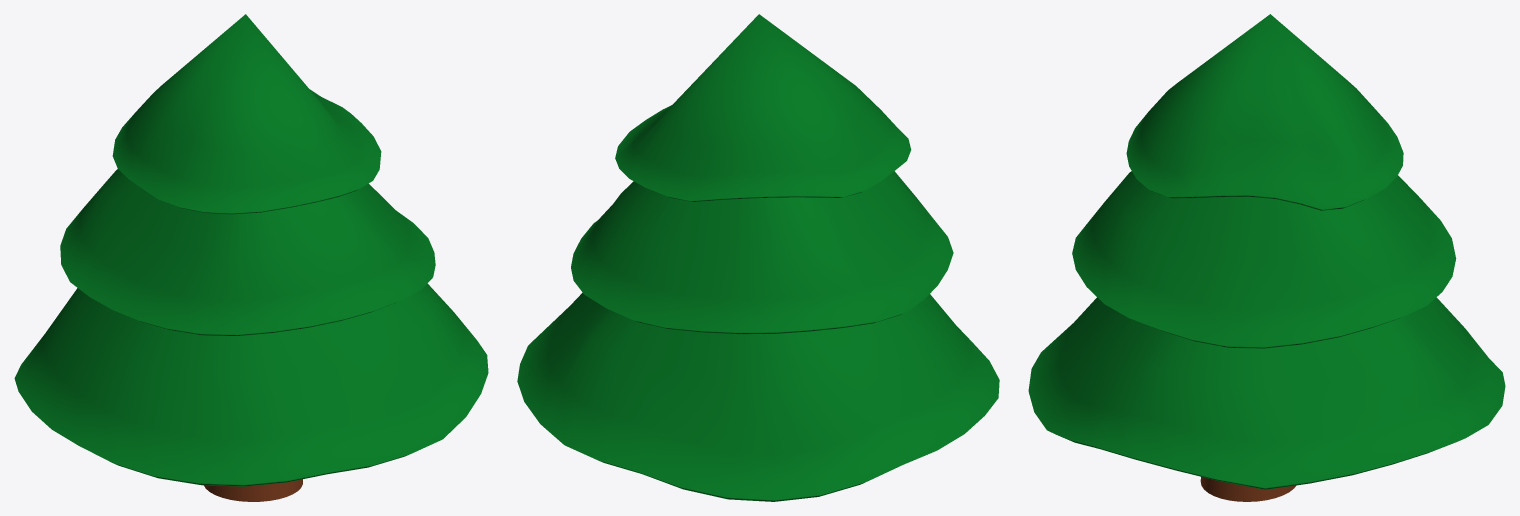
The model's file is kuusk (1).fbx.
3 renders of one model, left to right at view 1: azimuth 30°, elevation 25°; view 2: azimuth 150°, elevation 25°; view 3: azimuth 270°, elevation 25°, orthographic. The views are drawn at different scales.
Visible parts, largest first — view 1: Cylinder.003, Cylinder.005, Cylinder.004, Cylinder.001; view 2: Cylinder.003, Cylinder.005, Cylinder.004; view 3: Cylinder.003, Cylinder.005, Cylinder.004, Cylinder.001.
Boxes of the visible parts, bbox=[...] form: Cylinder.003: bbox=[14, 283, 488, 486]; Cylinder.005: bbox=[60, 169, 435, 335]; Cylinder.004: bbox=[112, 14, 381, 214]; Cylinder.001: bbox=[204, 479, 302, 501]; Cylinder.003: bbox=[517, 292, 999, 501]; Cylinder.005: bbox=[571, 171, 953, 334]; Cylinder.004: bbox=[615, 14, 911, 201]; Cylinder.003: bbox=[1028, 297, 1505, 489]; Cylinder.005: bbox=[1072, 171, 1456, 348]; Cylinder.004: bbox=[1126, 14, 1403, 210]; Cylinder.001: bbox=[1200, 477, 1296, 501].
Bounding box in the file's own units: 234 × 253 × 233.
